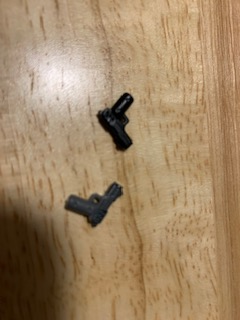pistol: (64, 179, 127, 227), (94, 91, 141, 152)
